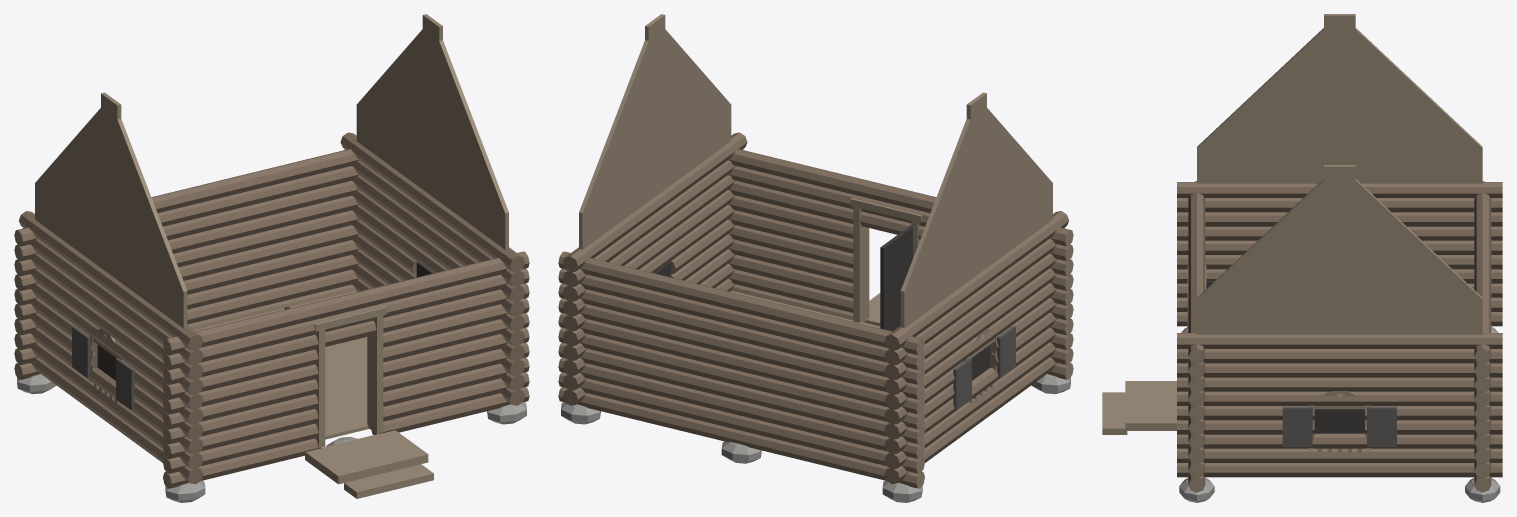
Rendered from IzbaWallsB.fbx.
3 renders of one model, left to right at view 1: azimuth 30°, elevation 25°; view 2: azimuth 150°, elevation 25°; view 3: azimuth 270°, elevation 25°, orthographic. The views are drawn at different scales.
Visible parts, largest first — view 1: IzbaWallsB; view 2: IzbaWallsB; view 3: IzbaWallsB.
Part boxes in pixels (x1,y1,x2,y2): IzbaWallsB: (14, 14, 529, 502); IzbaWallsB: (558, 14, 1073, 502); IzbaWallsB: (1102, 14, 1502, 502).
Bounding box in the file's own units: 559 × 515 × 561.
